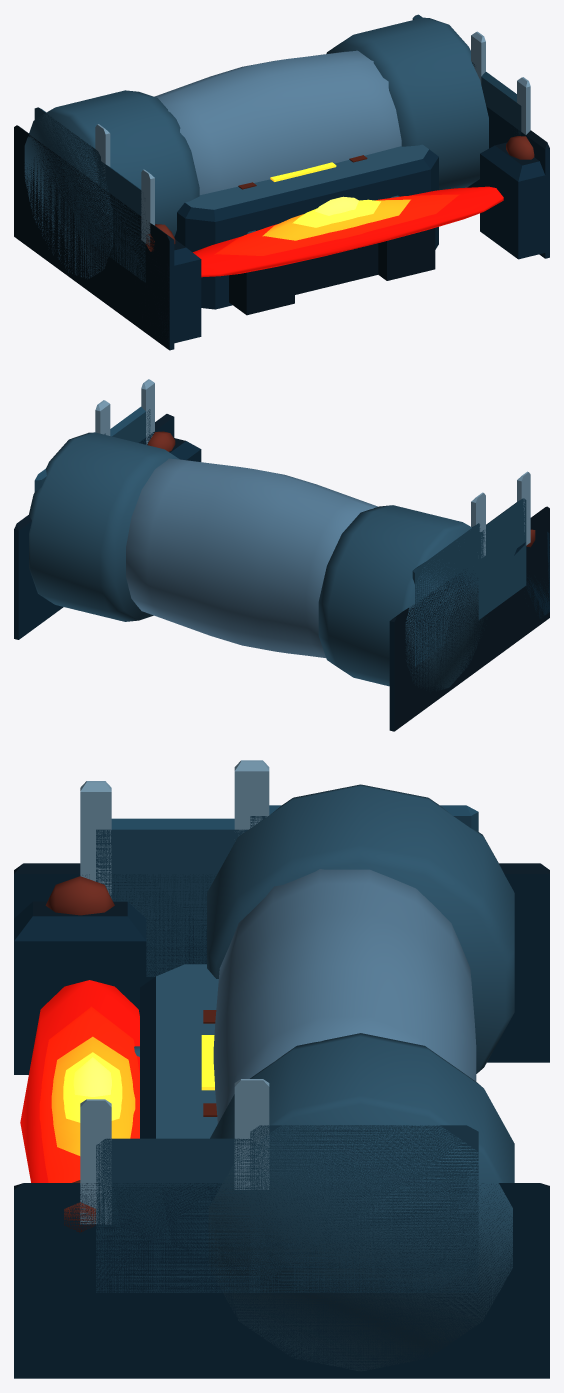
The model's file is newshv-91-f2.glb.
3 renders of one model, top to bottom at view 1: azimuth 30°, elevation 25°; view 2: azimuth 150°, elevation 25°; view 3: azimuth 270°, elevation 25°, orthographic. The views are drawn at different scales.
Visible parts, largest first — view 1: newshv-91-f2; view 2: newshv-91-f2; view 3: newshv-91-f2.
Part boxes in pixels (x1,y1,x2,y2): newshv-91-f2: [14, 14, 549, 350]; newshv-91-f2: [14, 379, 549, 731]; newshv-91-f2: [14, 760, 549, 1378].
Size of the model in its own units: 2 by 0.9 by 1.42.
